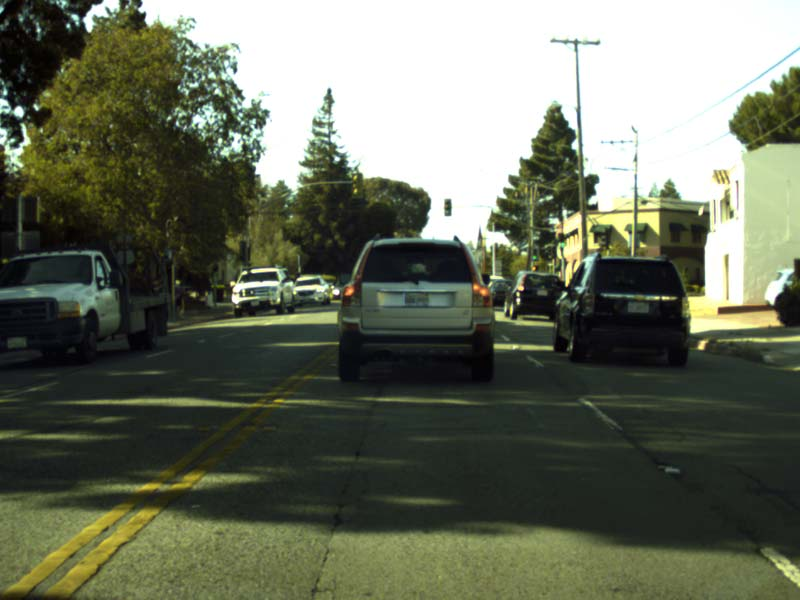Green: (444, 200, 450, 215), (559, 236, 563, 247), (532, 249, 536, 260)
